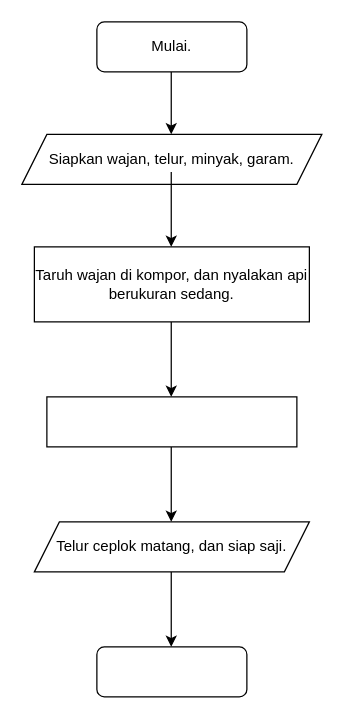
This 344x719 diagram has some shape labels left out. Each missing label, with the centre of its shape:
Goreng hingga matang.: the point at 171,421
Selesai.: the point at 171,671
